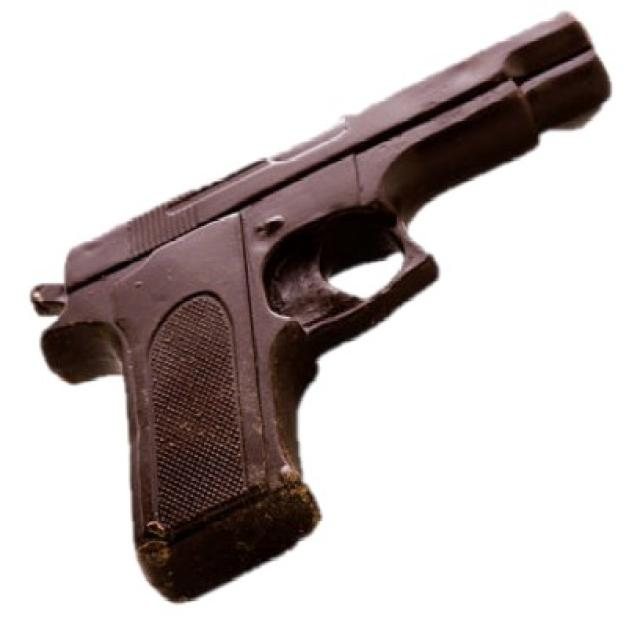pistol: (25, 9, 621, 606)
